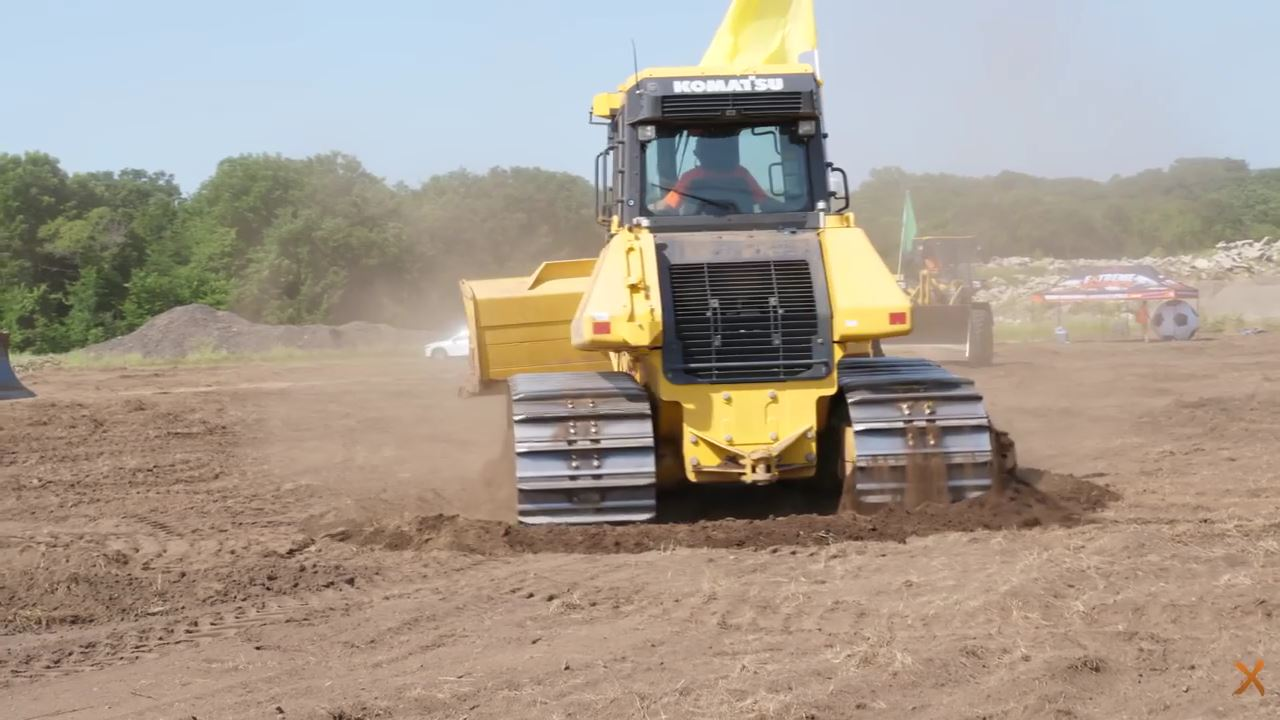con_eq: (435, 55, 1022, 530)
